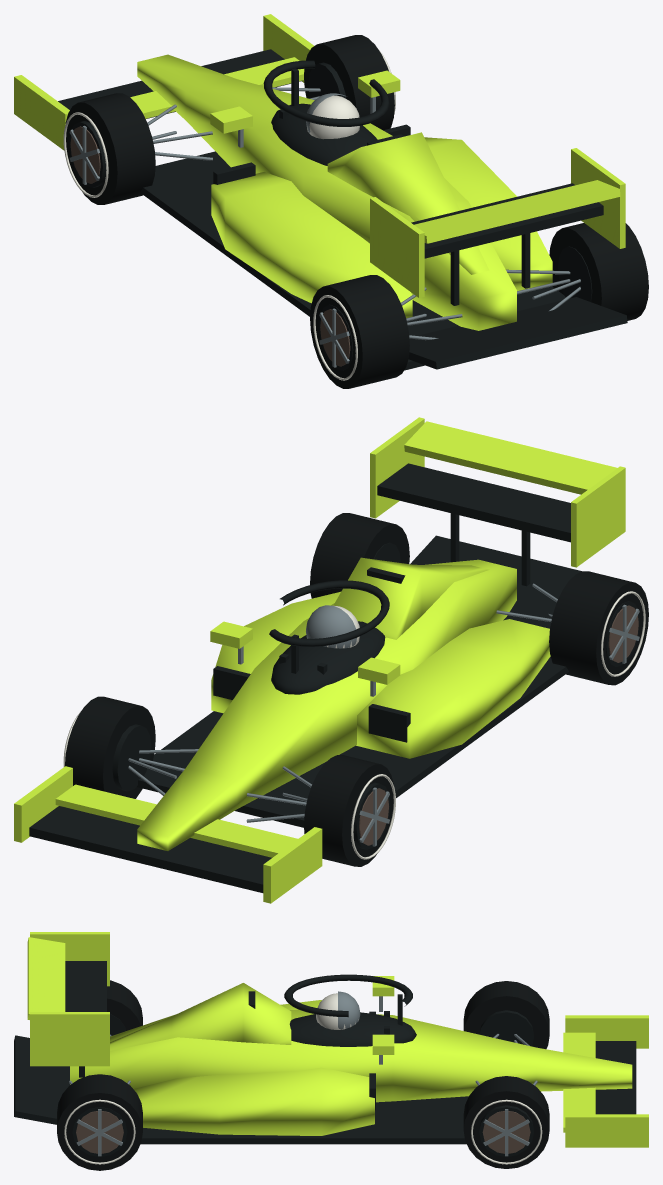
Rendered from al02-original.glb.
3 views of the same model, one above another, from view 1: azimuth 30°, elevation 25°; view 2: azimuth 150°, elevation 25°; view 3: azimuth 270°, elevation 25° (orthographic). The views are drawn at different scales.
Bounding box in the file's own units: 2.3 × 1.3 × 5.31.
